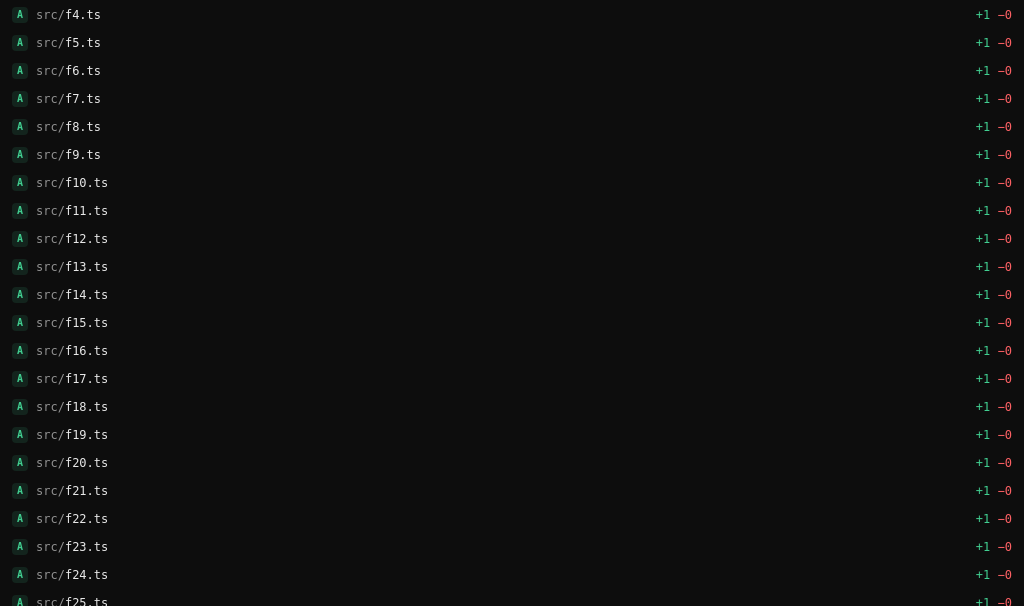
ChangesView › files › a file in the list opens and scrolls to its diff
Click the button "A src/ f7.ts +1 −0": click(83, 99) x1=6 y1=85 x2=1018 y2=113
(page scrolled)
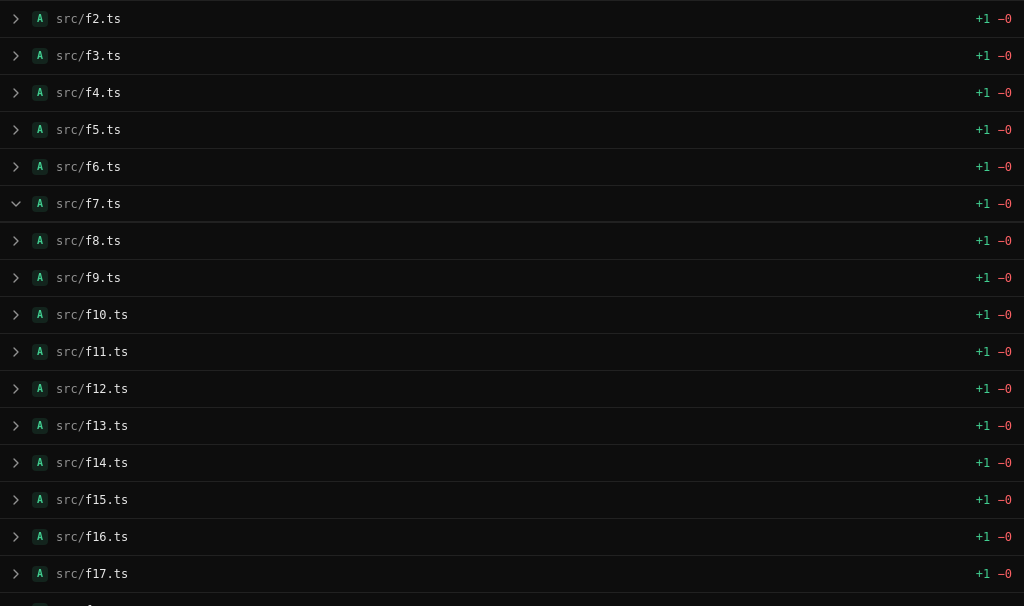
Expected: the button "A src/ f7.ts" is expanded, x1=8 y1=186 x2=968 y2=221
